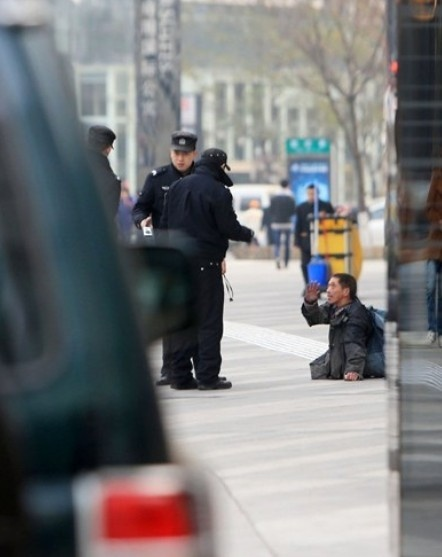falling: (292, 266, 392, 388)
